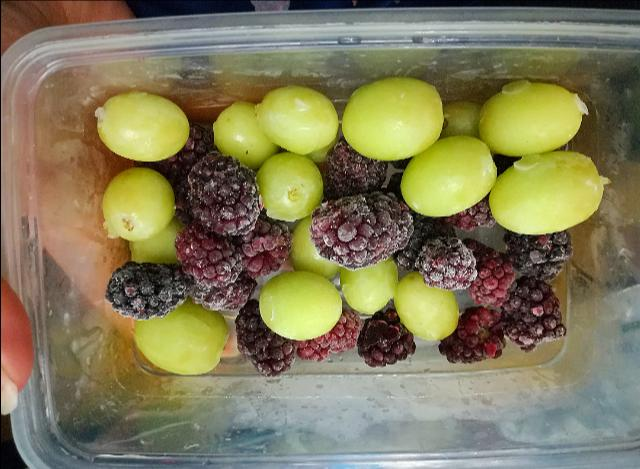Grapes: (488, 151, 604, 233), (344, 79, 444, 159), (480, 83, 582, 155), (404, 136, 494, 216), (94, 90, 188, 162), (131, 310, 227, 376), (260, 270, 342, 338), (104, 168, 174, 244), (260, 88, 336, 156), (211, 103, 271, 170), (258, 154, 320, 218), (396, 276, 458, 340), (341, 257, 399, 313)
